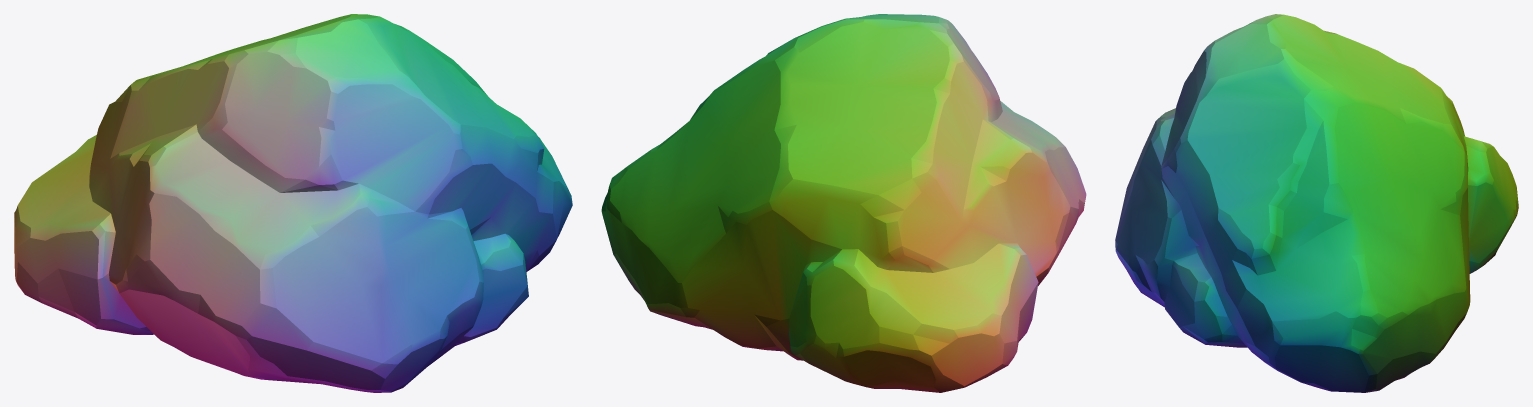
3 views of the same model, side by side, from view 1: azimuth 30°, elevation 25°; view 2: azimuth 150°, elevation 25°; view 3: azimuth 270°, elevation 25° (orthographic). The views are drawn at different scales.
Visible parts, largest first — view 1: st_gc_027_lod0; view 2: st_gc_027_lod0; view 3: st_gc_027_lod0.
Boxes of the visible parts, bbox=[...] form: st_gc_027_lod0: bbox=[14, 14, 572, 392]; st_gc_027_lod0: bbox=[601, 14, 1086, 392]; st_gc_027_lod0: bbox=[1115, 14, 1518, 392].
Size of what is drawn, in the model's own units: 589 by 366 by 498.
